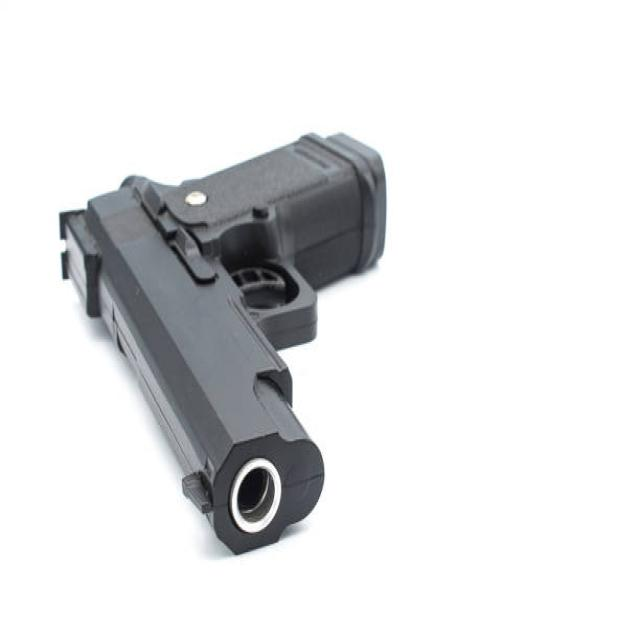pistol: (52, 121, 397, 554)
